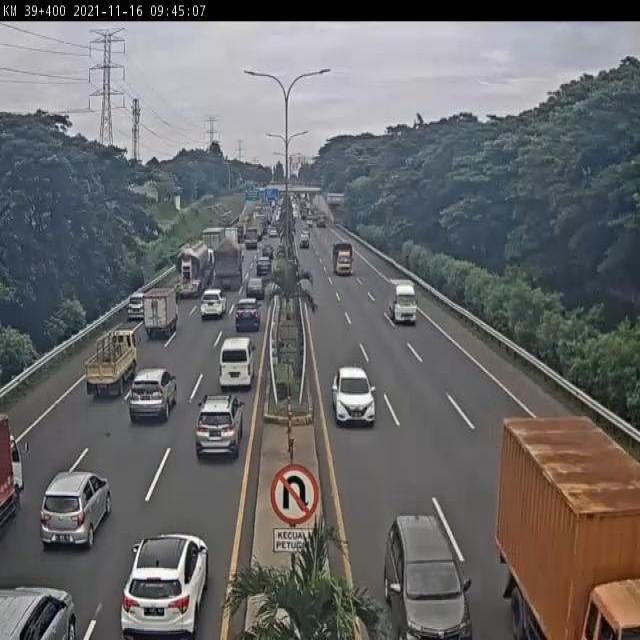car: (386, 514, 473, 640), (120, 534, 212, 640), (40, 471, 113, 548), (196, 398, 243, 462), (126, 367, 177, 422), (331, 363, 375, 424), (217, 340, 254, 391), (234, 300, 260, 332), (200, 291, 226, 320), (127, 293, 147, 324), (244, 278, 266, 302)
small truck: (85, 328, 141, 397), (143, 288, 178, 340), (387, 277, 420, 324)
truck-l-: (210, 243, 243, 296)
truck-m-: (502, 417, 640, 640)
truck-xl-: (172, 242, 212, 298)
